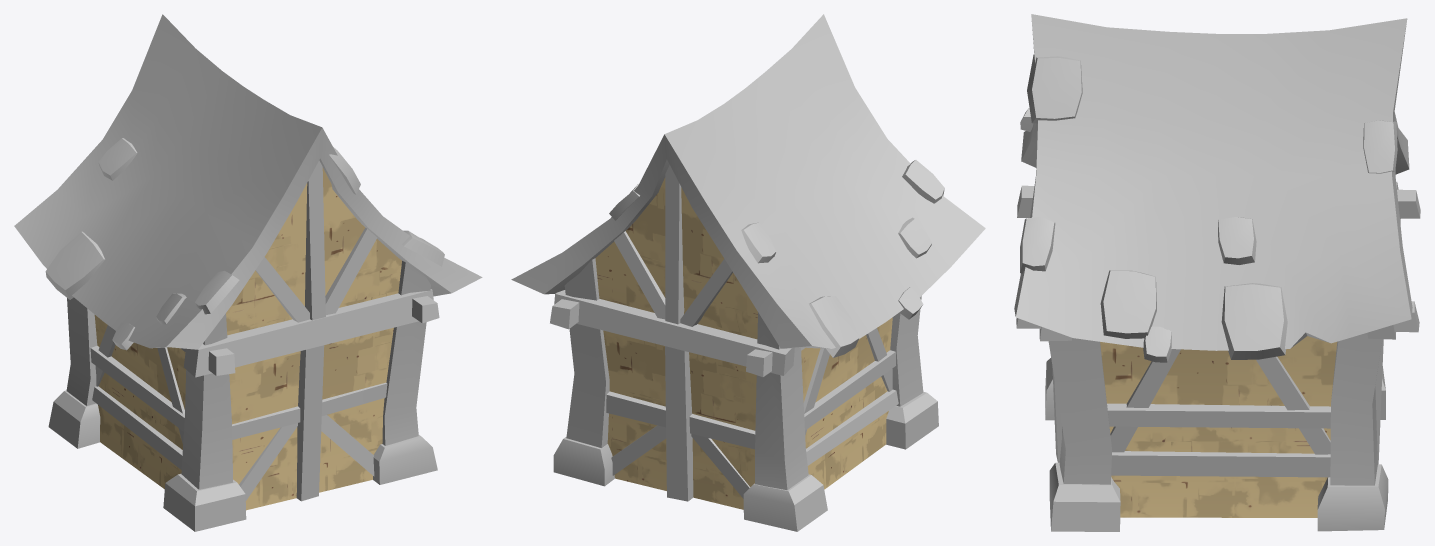
File: SM_BLD_body_v03_02.fbx
The picture shows the model from 3 angles, left to right: view 1: azimuth 30°, elevation 25°; view 2: azimuth 150°, elevation 25°; view 3: azimuth 270°, elevation 25°; orthographic projection. The views are drawn at different scales.
Visible parts, largest first — view 1: SM_BLD_body_v03_02; view 2: SM_BLD_body_v03_02; view 3: SM_BLD_body_v03_02.
Part boxes in pixels (<box>): SM_BLD_body_v03_02: <box>14,14,482,531</box>; SM_BLD_body_v03_02: <box>511,14,985,531</box>; SM_BLD_body_v03_02: <box>1014,14,1420,531</box>.
Bounding box in the file's own units: 722 × 836 × 690.
